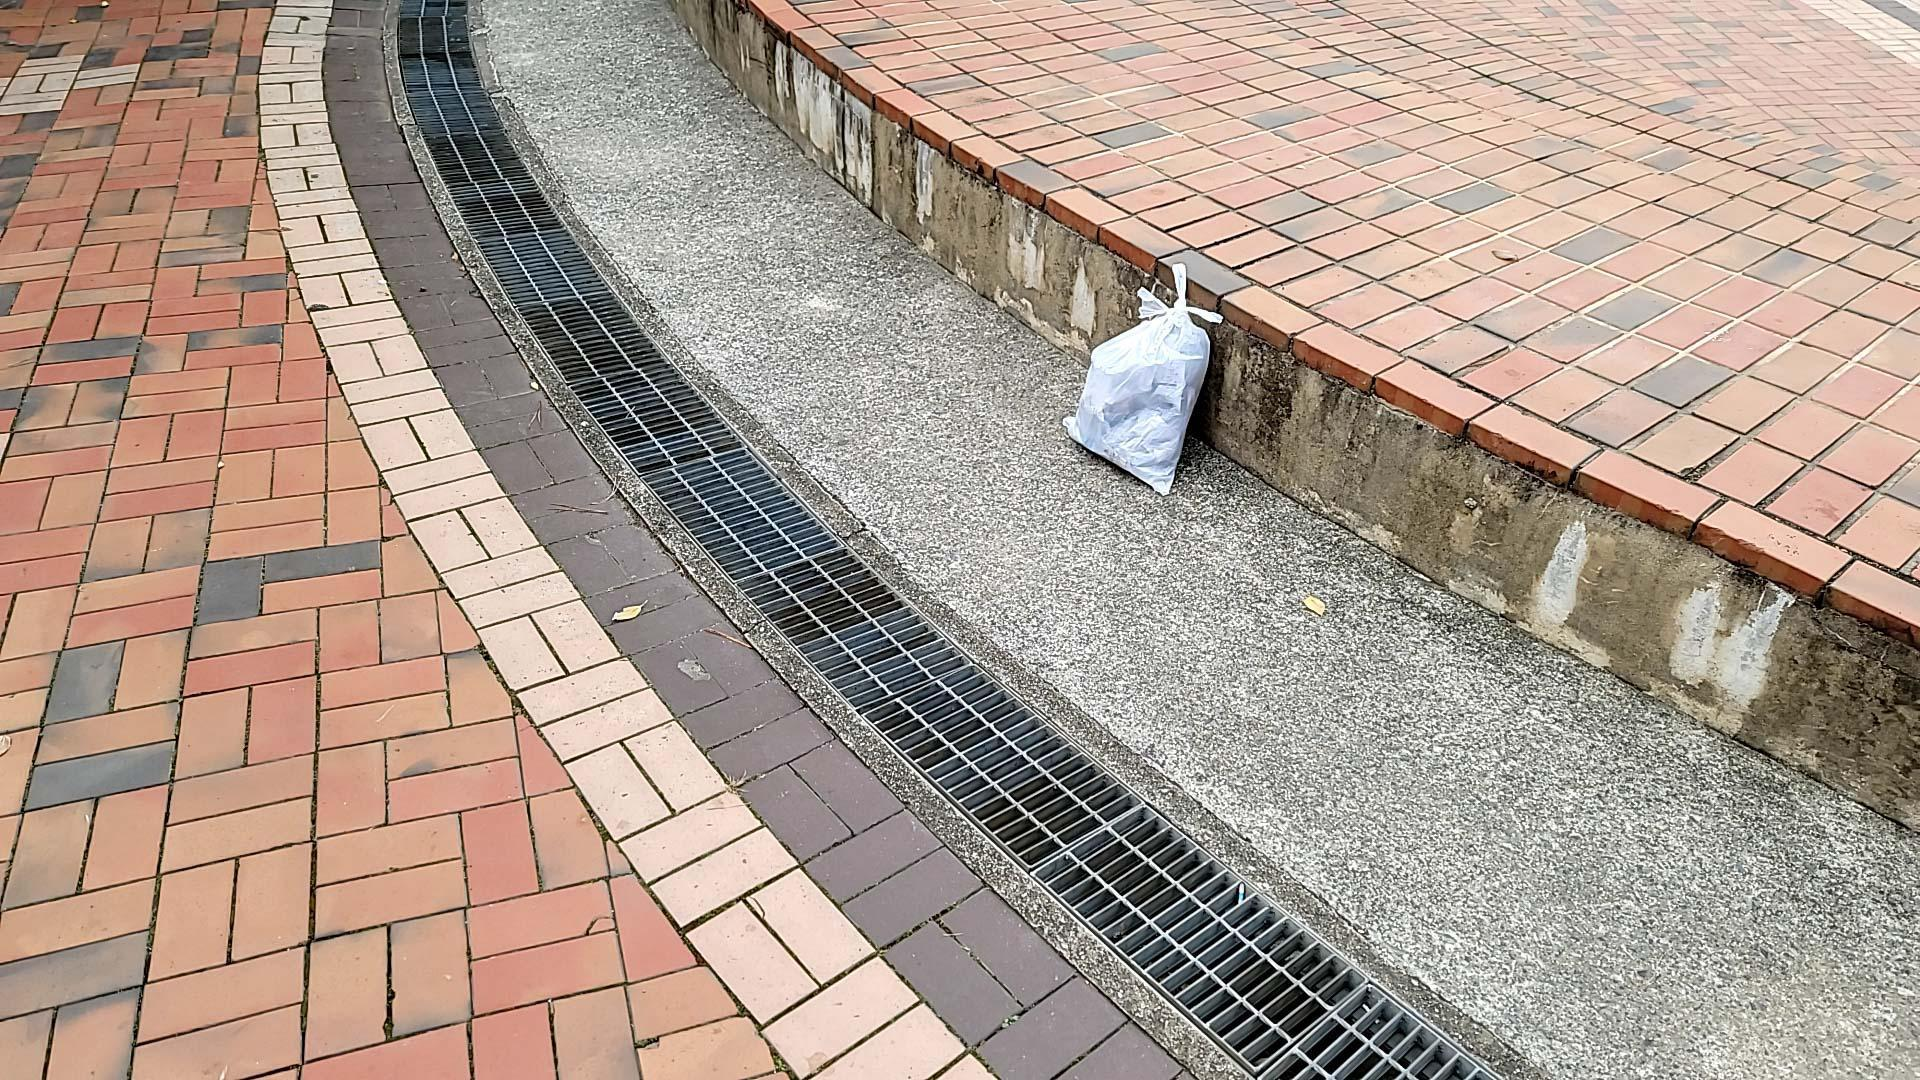white_bag: (1056, 251, 1225, 505)
